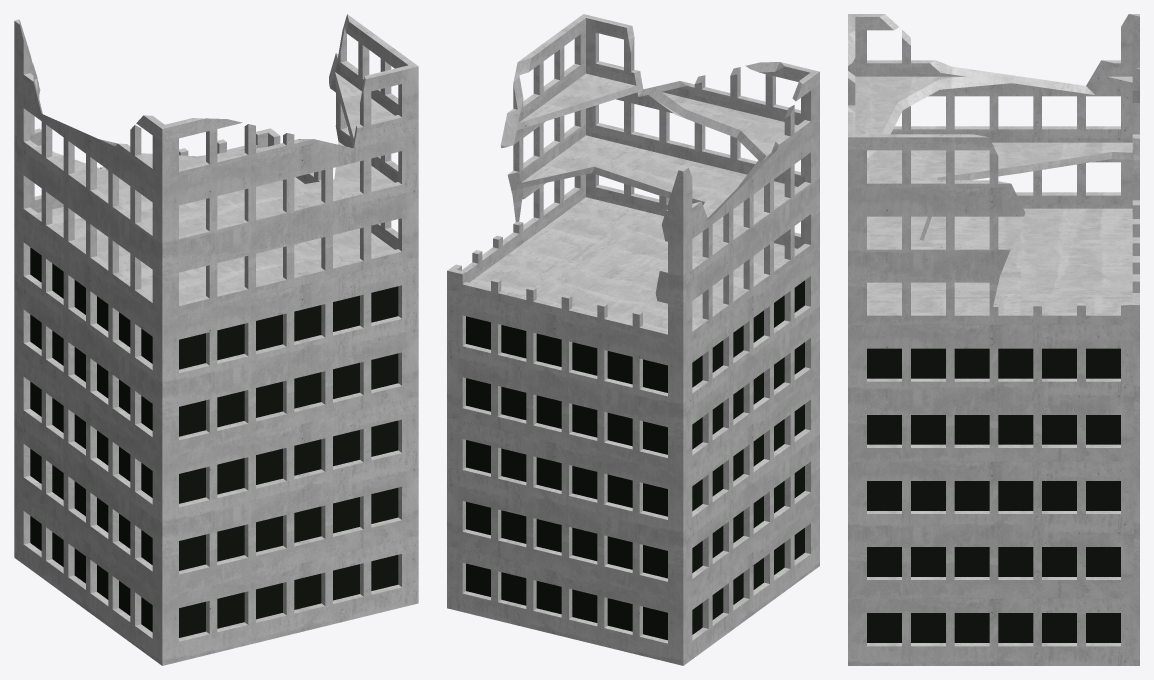
File: building_3.obj
3 renders of one model, left to right at view 1: azimuth 30°, elevation 25°; view 2: azimuth 150°, elevation 25°; view 3: azimuth 270°, elevation 25°, orthographic. The views are drawn at different scales.
Visible parts, largest first — view 1: buildiong_3; view 2: buildiong_3; view 3: buildiong_3.
Boxes of the visible parts, x1,y1,x2,y2 form: buildiong_3: [14, 14, 418, 665]; buildiong_3: [447, 14, 819, 665]; buildiong_3: [848, 14, 1139, 665].
Bounding box in the file's own units: 20 × 40 × 20.
